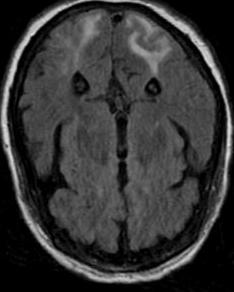Normal_Brain: (1, 1, 234, 290)
